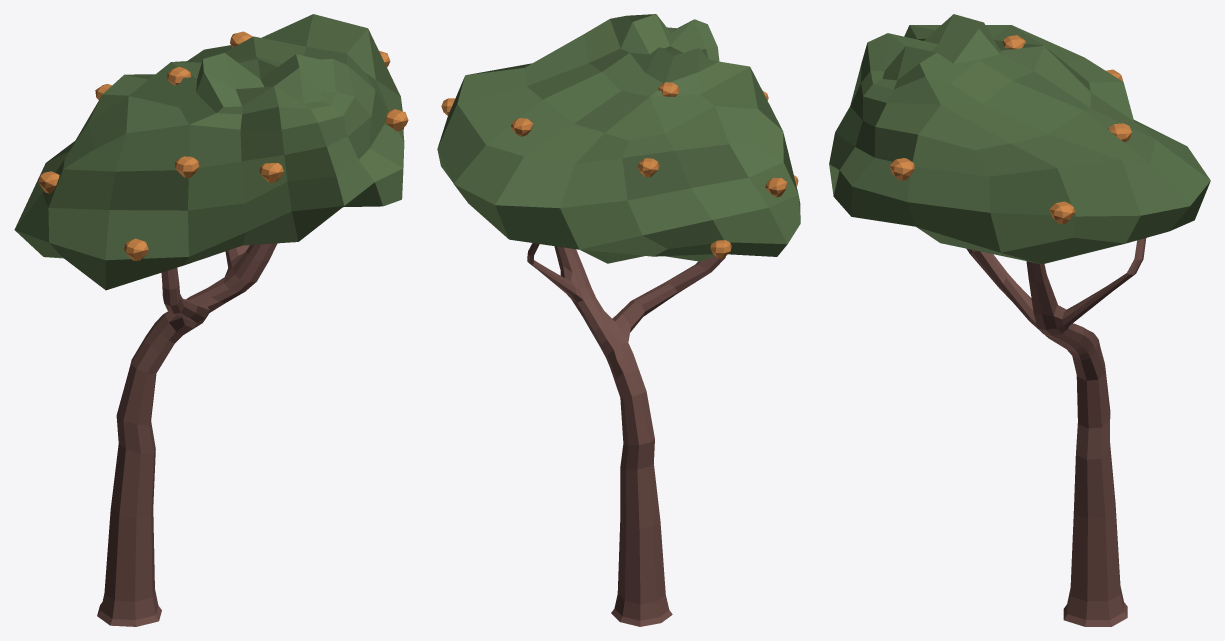
The model's file is orange_4.glb.
3 renders of one model, left to right at view 1: azimuth 30°, elevation 25°; view 2: azimuth 150°, elevation 25°; view 3: azimuth 270°, elevation 25°, orthographic. The views are drawn at different scales.
Visible parts, largest first — view 1: Orange_4; view 2: Orange_4; view 3: Orange_4.
Boxes of the visible parts, x1,y1,x2,y2 form: Orange_4: (14, 14, 408, 626); Orange_4: (437, 14, 800, 626); Orange_4: (829, 14, 1210, 626).
Bounding box in the file's own units: 1.86 × 2.76 × 1.58.
